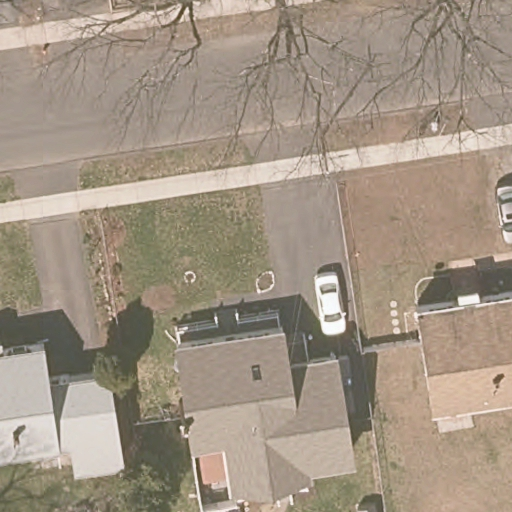DT: (426, 94, 456, 136)
